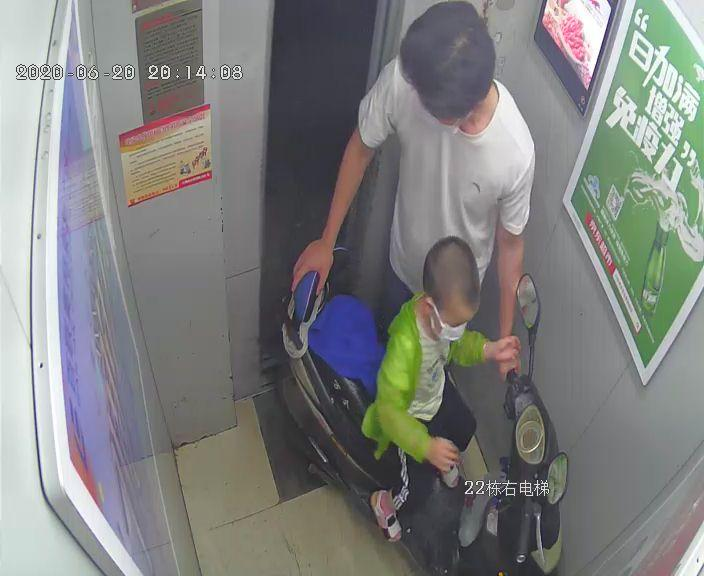Electric-bicycle: (281, 249, 568, 573)
